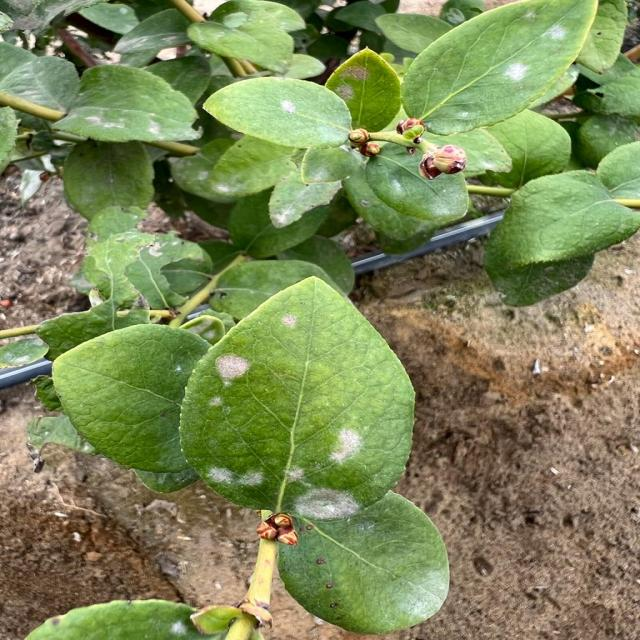Hojas con oidiosis: (175, 272, 417, 521), (395, 0, 599, 138), (272, 479, 451, 633), (198, 75, 356, 149)
